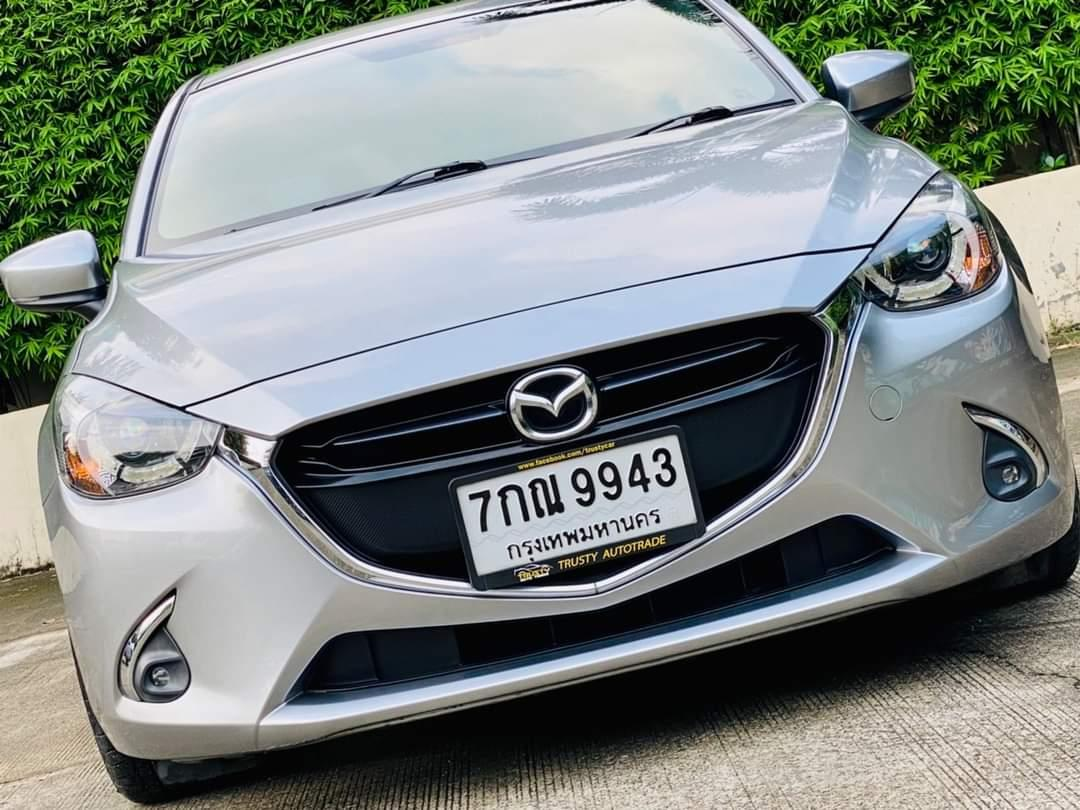license-plate: (432, 420, 706, 592)
